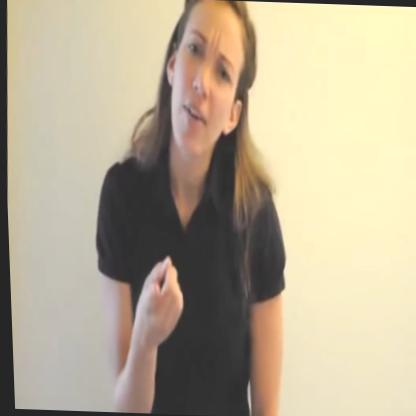HowAreYou: (110, 223, 234, 381)
